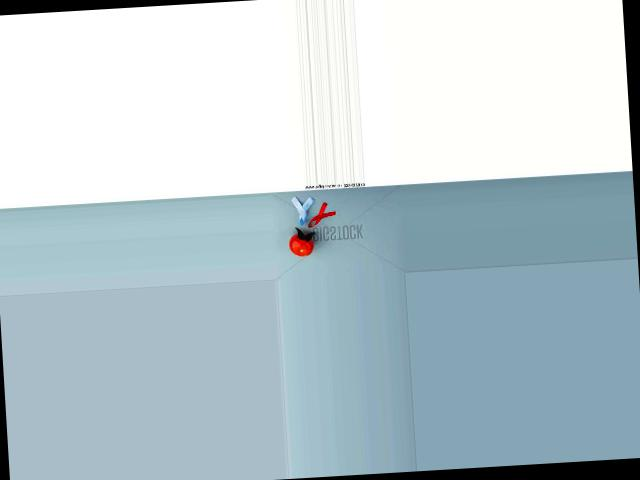tomato: (289, 232, 314, 256)
